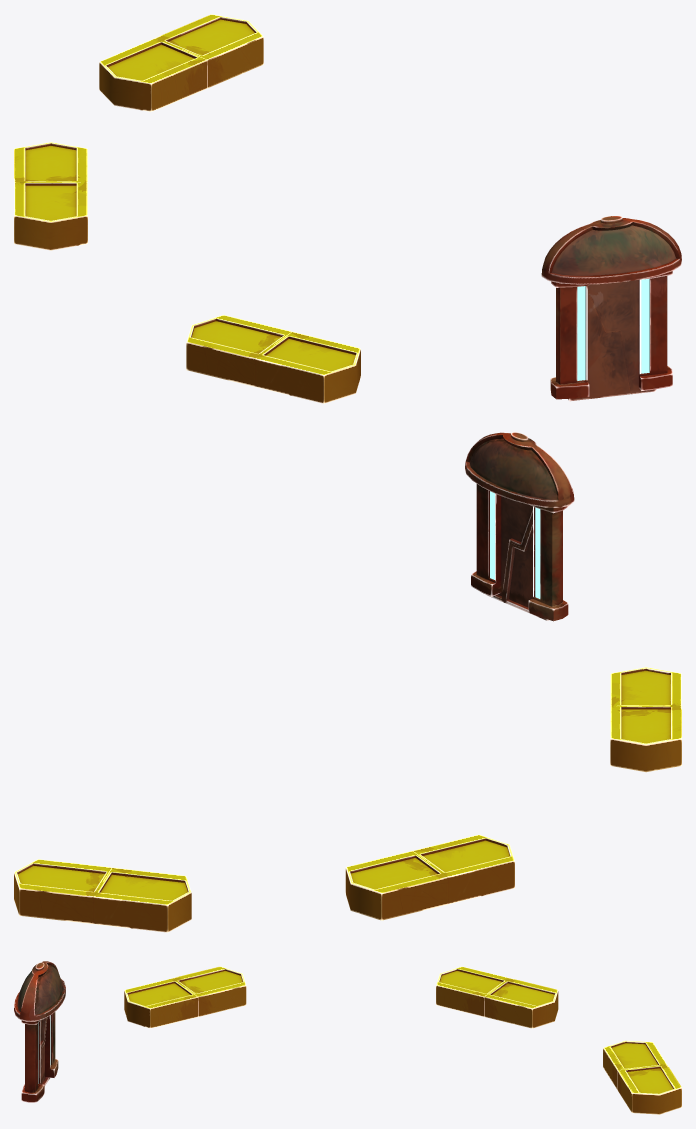
The model's file is Door_y_p.fbx.
3 views of the same model, one above another, from view 1: azimuth 30°, elevation 25°; view 2: azimuth 150°, elevation 25°; view 3: azimuth 270°, elevation 25° (orthographic). The views are drawn at different scales.
Parts seen in each view (by area): view 1: pCube16 (×3), pCube17 (×3), pSphere1, pCube3, pCube12, pCube13; view 2: pCube17 (×3), pCube16 (×3), pCube3, pSphere1, pCube13, pCube12; view 3: pCube17 (×3), pCube16 (×3), pSphere1, pCube3.
Part boxes in pixels (box(x1,y1,x2,y2)): pCube16 (×3): box(14, 38, 360, 403); pCube17 (×3): box(14, 14, 291, 386); pSphere1: box(541, 216, 681, 284); pCube3: box(550, 271, 672, 399); pCube12: box(587, 280, 656, 394); pCube13: box(568, 290, 630, 401); pCube17 (×3): box(14, 706, 681, 924); pCube16 (×3): box(93, 667, 681, 932); pCube3: box(471, 484, 568, 621); pSphere1: box(465, 432, 574, 507); pCube13: box(504, 515, 549, 620); pCube12: box(486, 496, 532, 602); pCube17 (×3): box(172, 966, 681, 1114); pCube16 (×3): box(124, 966, 667, 1089); pSphere1: box(14, 961, 65, 1021); pCube3: box(21, 1012, 58, 1102).
Size of the model in its own units: 1120 by 504 by 2462.
